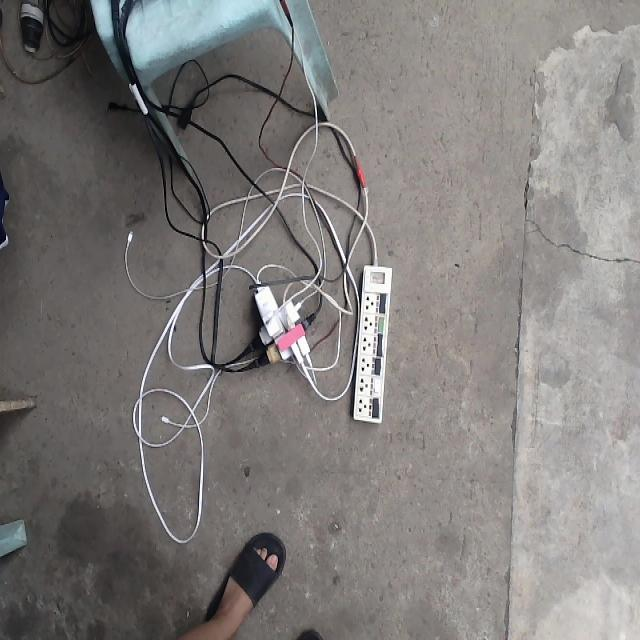-: (252, 280, 312, 371)
